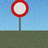sign: (11, 0, 28, 34)
